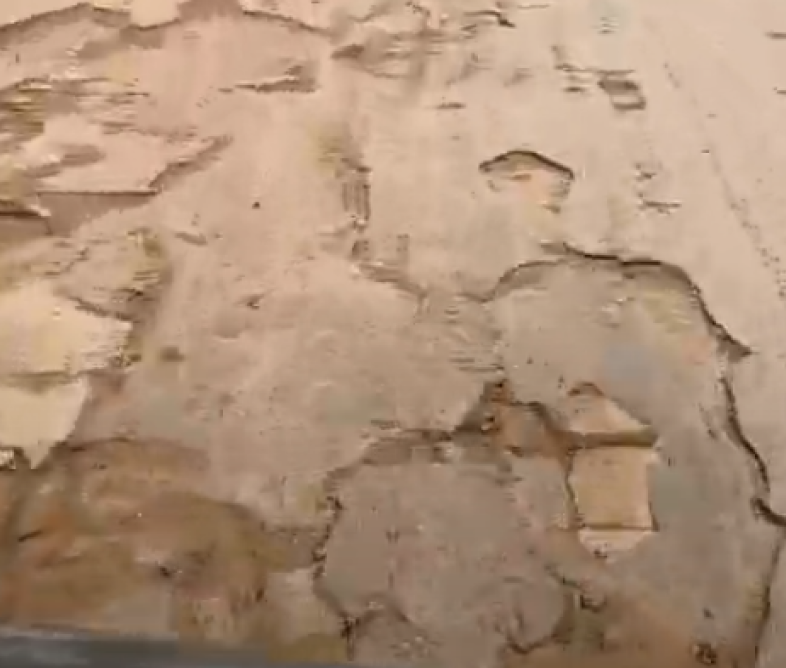Retak Buaya: (3, 433, 350, 622), (456, 383, 674, 565), (468, 245, 764, 373), (1, 71, 230, 236), (679, 344, 786, 668), (302, 119, 439, 311), (51, 246, 168, 450), (338, 2, 508, 131), (1, 3, 332, 47), (496, 37, 672, 117), (468, 144, 596, 215), (35, 179, 174, 217)
